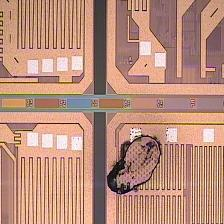PARTICLE: (105, 135, 165, 196)
